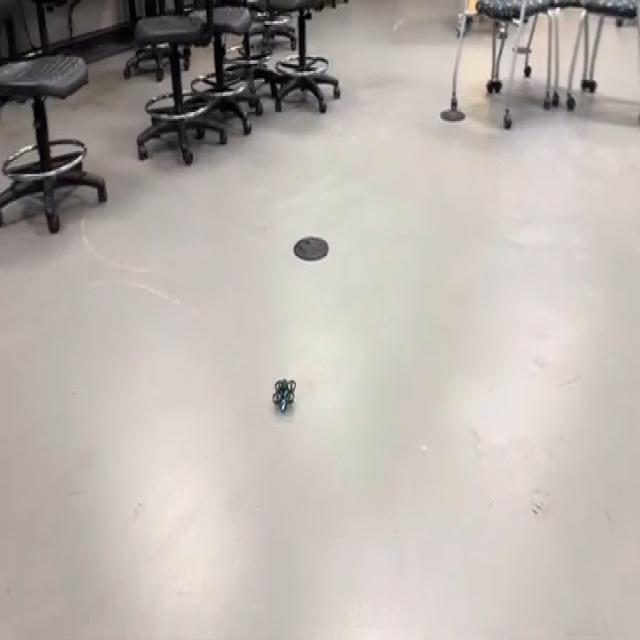drone: (266, 367, 301, 424)
